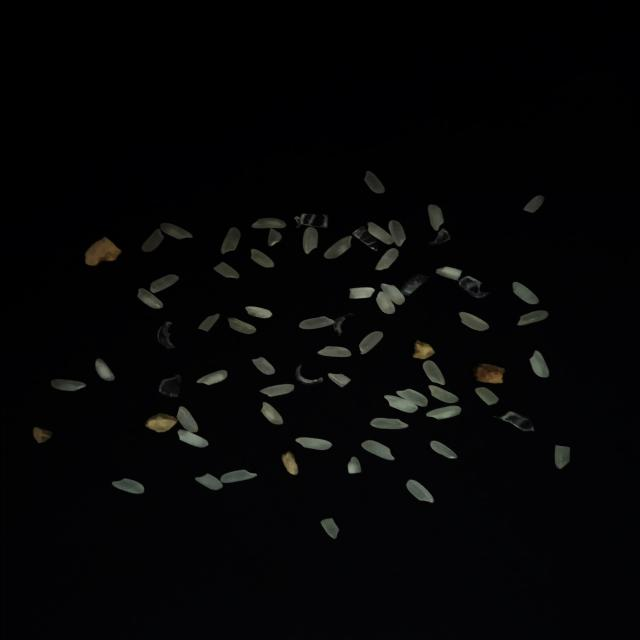Broken: (194, 472, 222, 489), (212, 261, 238, 278), (318, 516, 338, 538), (250, 356, 274, 374), (474, 386, 498, 404), (197, 312, 219, 330), (554, 444, 570, 468), (522, 194, 543, 212), (435, 266, 461, 280), (326, 372, 351, 386), (348, 286, 374, 298), (266, 227, 280, 245), (346, 456, 361, 472)
Full: (323, 234, 352, 258), (360, 439, 394, 459), (405, 478, 433, 502), (383, 394, 418, 412), (512, 280, 538, 304), (458, 310, 489, 330), (175, 405, 198, 431), (218, 226, 240, 253), (176, 428, 208, 446), (395, 388, 427, 406), (358, 330, 382, 354), (367, 221, 392, 244), (148, 273, 178, 292), (425, 404, 460, 420), (528, 349, 548, 377), (140, 228, 163, 252), (379, 282, 404, 304), (136, 287, 162, 308), (110, 477, 144, 493), (158, 222, 192, 238), (428, 384, 458, 402), (226, 316, 256, 334), (259, 401, 282, 424), (422, 360, 444, 384), (362, 169, 384, 193), (374, 247, 398, 269), (94, 356, 115, 381), (195, 368, 227, 384), (516, 309, 548, 325), (220, 468, 256, 482), (429, 440, 457, 458), (298, 315, 334, 329), (387, 218, 405, 246), (293, 436, 331, 449), (426, 203, 444, 230), (258, 383, 294, 396), (374, 290, 394, 313), (370, 416, 408, 428), (50, 378, 86, 390), (316, 344, 352, 356), (250, 248, 274, 266), (302, 226, 318, 253), (250, 216, 284, 228), (244, 305, 272, 317)
